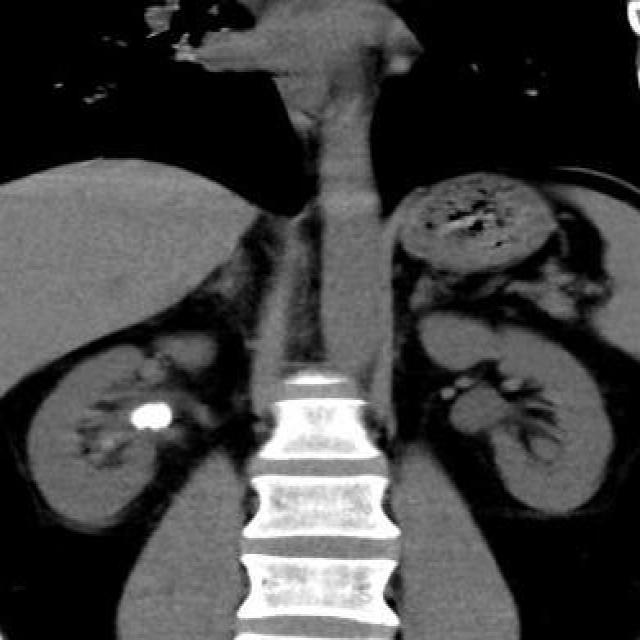Tas_Var: (126, 391, 175, 439)
